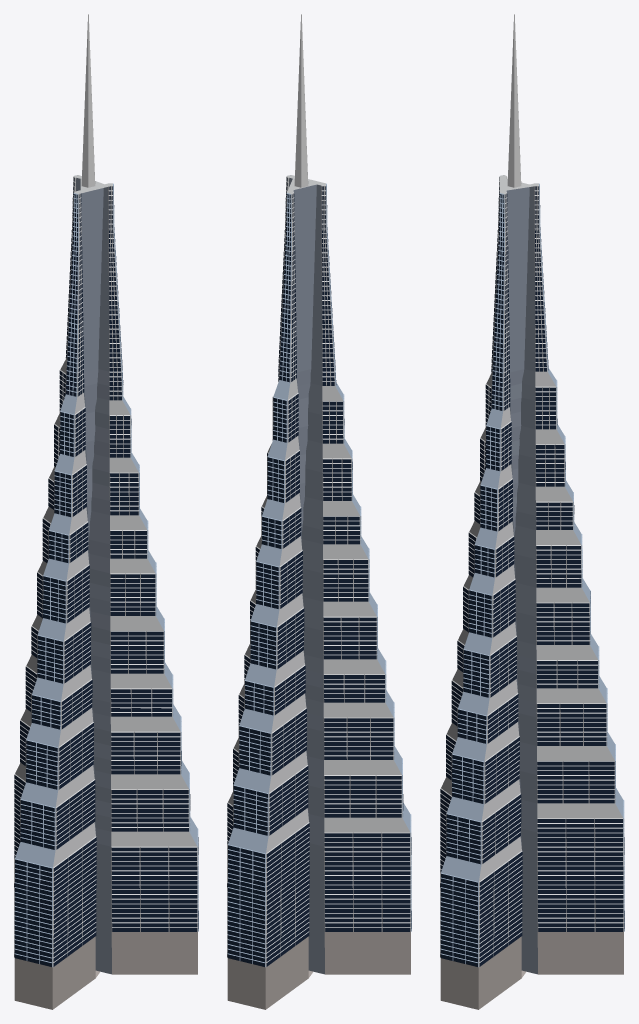
The model's file is BurjKhalifa.fbx.
The picture shows the model from 3 angles, left to right: view 1: azimuth 30°, elevation 25°; view 2: azimuth 150°, elevation 25°; view 3: azimuth 270°, elevation 25°; orthographic projection.
Visible parts, largest first — view 1: BurjKhalifa; view 2: BurjKhalifa; view 3: BurjKhalifa.
Boxes of the visible parts, x1,y1,x2,y2 form: BurjKhalifa: (14,14,198,1009); BurjKhalifa: (227,14,411,1009); BurjKhalifa: (440,14,624,1009).
Bounding box in the file's own units: 13.58 × 67 × 11.79.
